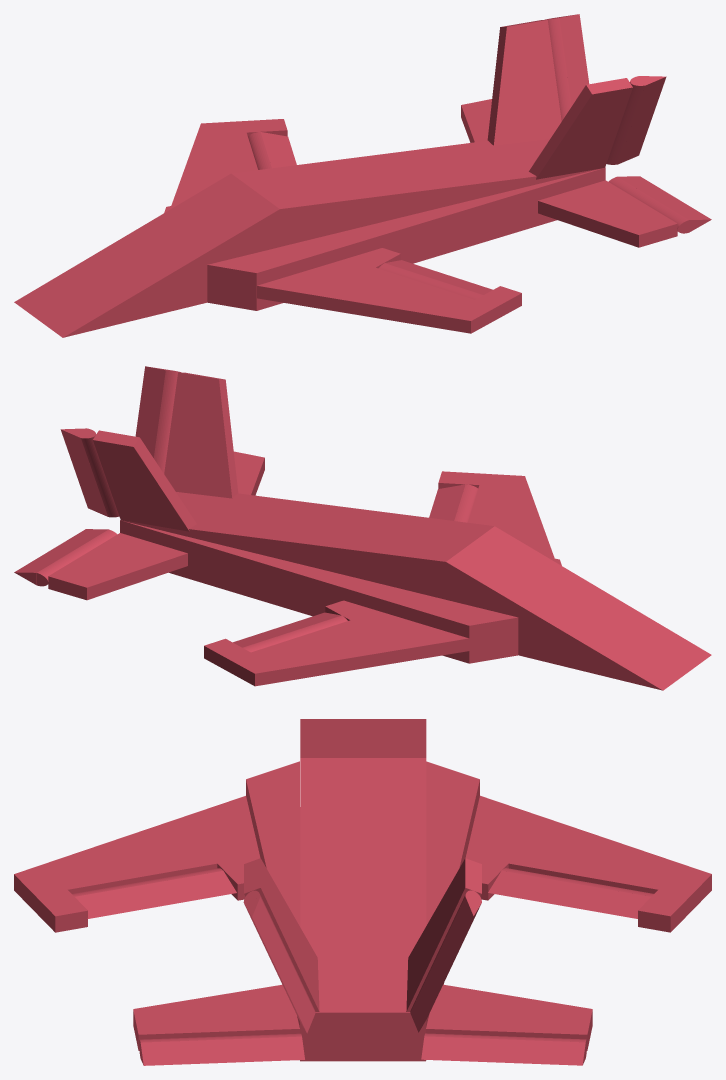
Rendered from jet.glb.
3 views of the same model, one above another, from view 1: azimuth 30°, elevation 25°; view 2: azimuth 150°, elevation 25°; view 3: azimuth 270°, elevation 25° (orthographic). The views are drawn at different scales.
Parts seen in each view (by area): view 1: Mesh_Mesh_head_geo.001_lambert2SG.001; view 2: Mesh_Mesh_head_geo.001_lambert2SG.001; view 3: Mesh_Mesh_head_geo.001_lambert2SG.001.
Boxes of the visible parts, x1,y1,x2,y2 form: Mesh_Mesh_head_geo.001_lambert2SG.001: [14, 14, 711, 337]; Mesh_Mesh_head_geo.001_lambert2SG.001: [14, 366, 711, 690]; Mesh_Mesh_head_geo.001_lambert2SG.001: [14, 719, 711, 1065].
Bounding box in the file's own units: 488 × 111 × 388.
